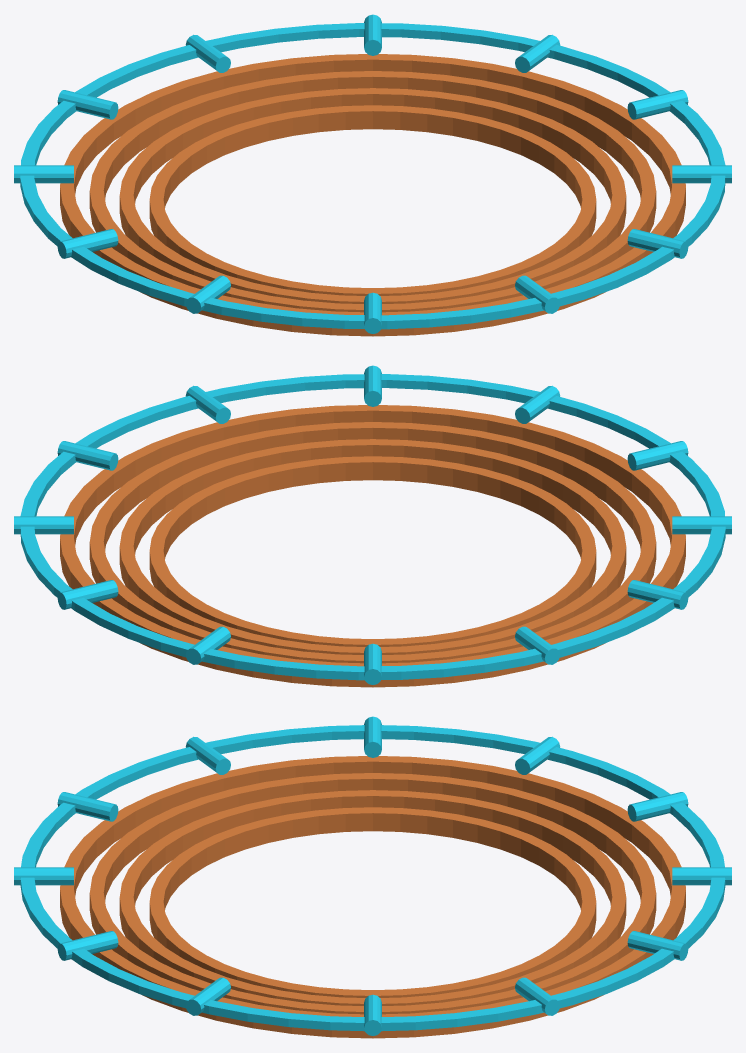
Rendered from 19_L76_AnnularFlowDistributionManifold.fbx.
The picture shows the model from 3 angles, top to bottom: view 1: azimuth 30°, elevation 25°; view 2: azimuth 150°, elevation 25°; view 3: azimuth 270°, elevation 25°; orthographic projection.
Visible parts, largest first — view 1: AnnularFlowDistributionManifold, AnnularFlowDistributionManifold_Part_0016; view 2: AnnularFlowDistributionManifold, AnnularFlowDistributionManifold_Part_0016; view 3: AnnularFlowDistributionManifold, AnnularFlowDistributionManifold_Part_0016.
Boxes of the visible parts, x1,y1,x2,y2 form: AnnularFlowDistributionManifold: (14,14,731,336); AnnularFlowDistributionManifold_Part_0016: (20,23,725,329); AnnularFlowDistributionManifold: (14,365,731,687); AnnularFlowDistributionManifold_Part_0016: (20,374,725,680); AnnularFlowDistributionManifold: (14,716,731,1038); AnnularFlowDistributionManifold_Part_0016: (20,725,725,1031).
Size of the model in its own units: 360 by 28.5 by 360.
